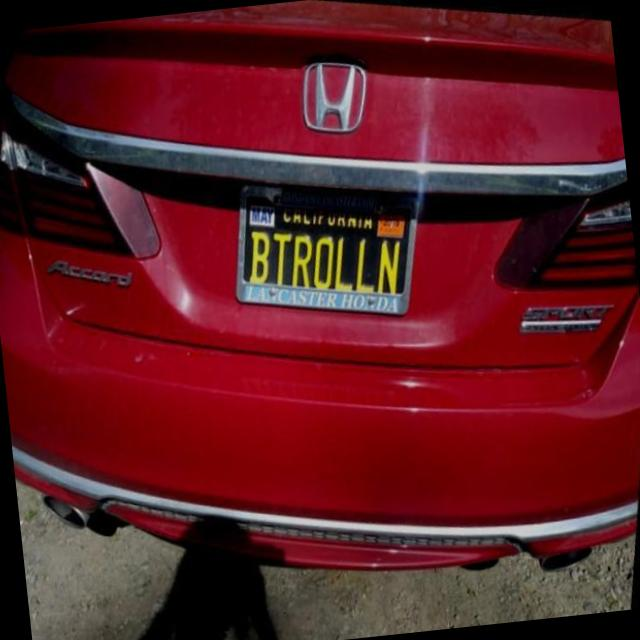LicensePlate: (231, 182, 419, 316)
